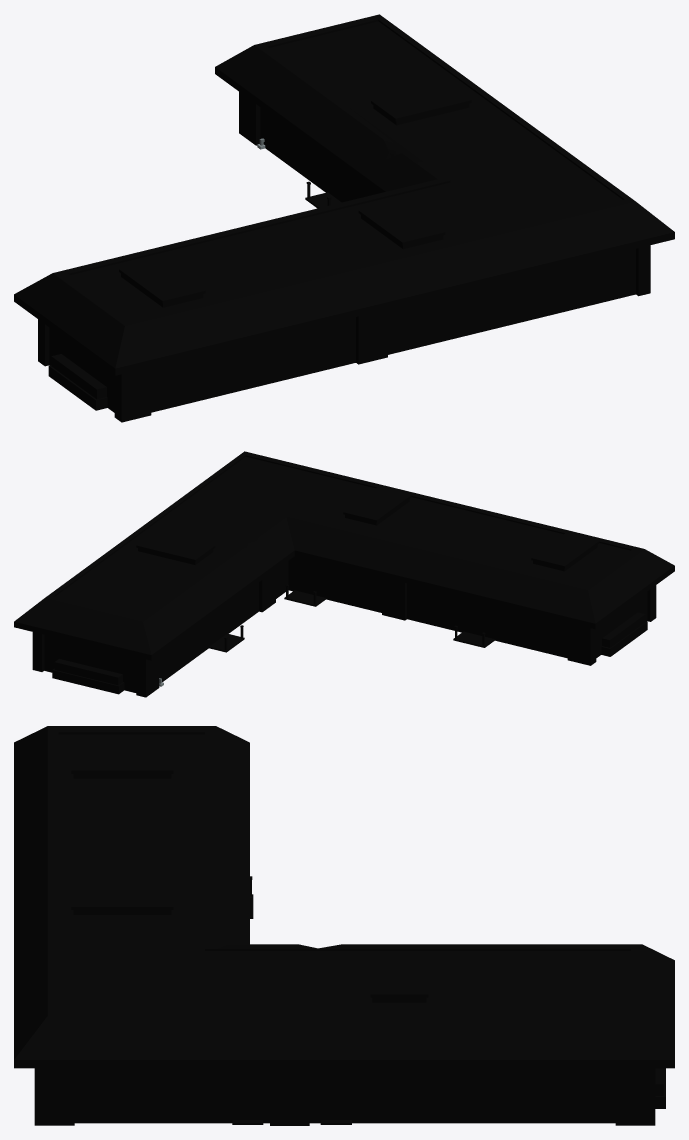
File: SA_Bld_Mall_Damaged_01.gltf
The picture shows the model from 3 angles, top to bottom: view 1: azimuth 30°, elevation 25°; view 2: azimuth 150°, elevation 25°; view 3: azimuth 270°, elevation 25°; orthographic projection. The views are drawn at different scales.
Parts seen in each view (by area): view 1: SA_Bld_Mall_Damaged_01; view 2: SA_Bld_Mall_Damaged_01; view 3: SA_Bld_Mall_Damaged_01.
Boxes of the visible parts, x1=… form: SA_Bld_Mall_Damaged_01: x1=14, y1=14, x2=674, y2=422; SA_Bld_Mall_Damaged_01: x1=14, y1=451, x2=674, y2=697; SA_Bld_Mall_Damaged_01: x1=14, y1=726, x2=674, y2=1125.
Bounding box in the file's own units: 43.19 × 7.06 × 38.
1 material, 1 textured.
